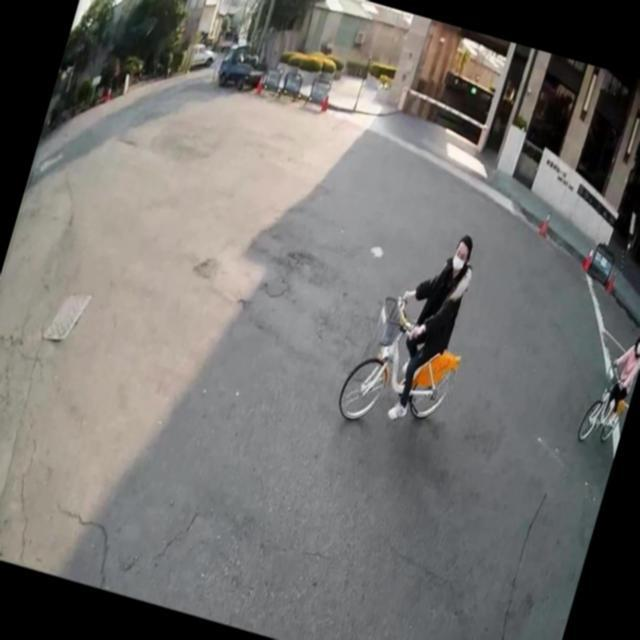person: (364, 214, 486, 432), (595, 320, 640, 432)
